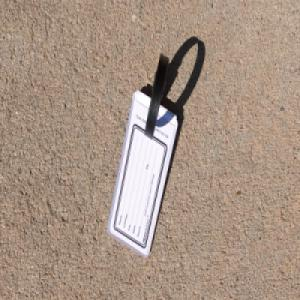LuggageTag: (106, 50, 179, 262)
